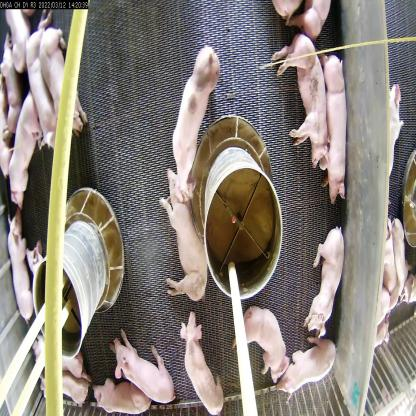Pig: (164, 48, 231, 198), (264, 22, 321, 170), (314, 32, 356, 204), (36, 16, 93, 138), (170, 169, 210, 308), (113, 323, 180, 403), (19, 24, 60, 149), (270, 340, 339, 408), (179, 310, 224, 412), (4, 209, 36, 344), (5, 102, 46, 200), (236, 306, 288, 380), (306, 219, 337, 340), (90, 375, 144, 415)
